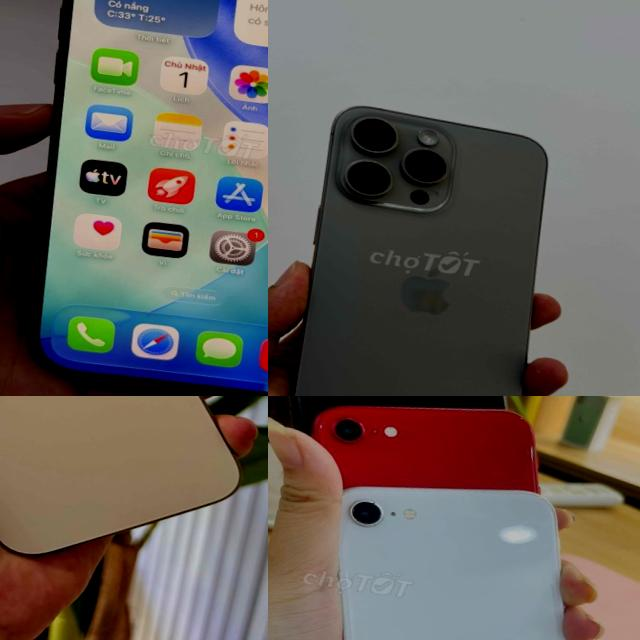gen_14: (0, 396, 268, 585)
gen_15: (268, 92, 579, 396)
gen_16: (0, 0, 268, 396)
gen_7_8: (289, 463, 640, 640)
